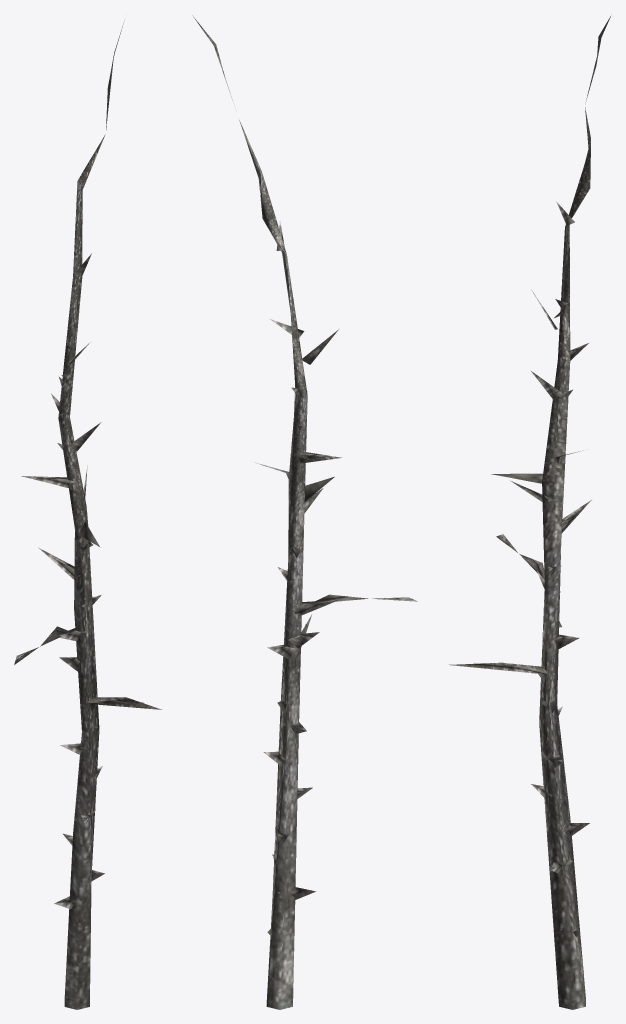
File: arctic-dead-pine-a-map.glb
3 renders of one model, left to right at view 1: azimuth 30°, elevation 25°; view 2: azimuth 150°, elevation 25°; view 3: azimuth 270°, elevation 25°, orthographic. The views are drawn at different scales.
Visible parts, largest first — view 1: pine_dead_snow_a_LOD0; view 2: pine_dead_snow_a_LOD0; view 3: pine_dead_snow_a_LOD0.
Boxes of the visible parts, bbox=[...] form: pine_dead_snow_a_LOD0: bbox=[14, 21, 161, 1009]; pine_dead_snow_a_LOD0: bbox=[192, 15, 417, 1009]; pine_dead_snow_a_LOD0: bbox=[448, 16, 610, 1009].
Bounding box in the file's own units: 2.73 × 15 × 2.19.
Materials: 1 (1 with a texture image).
